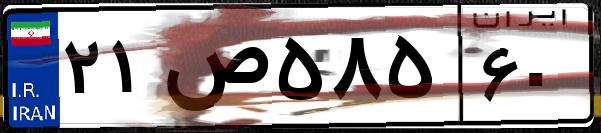0: (525, 38, 570, 115)
1: (110, 28, 158, 98)
2: (57, 26, 110, 100)
5: (270, 28, 330, 110), (385, 28, 445, 110)
6: (475, 38, 525, 113)
8: (330, 28, 385, 110)
ص: (158, 20, 270, 120)
